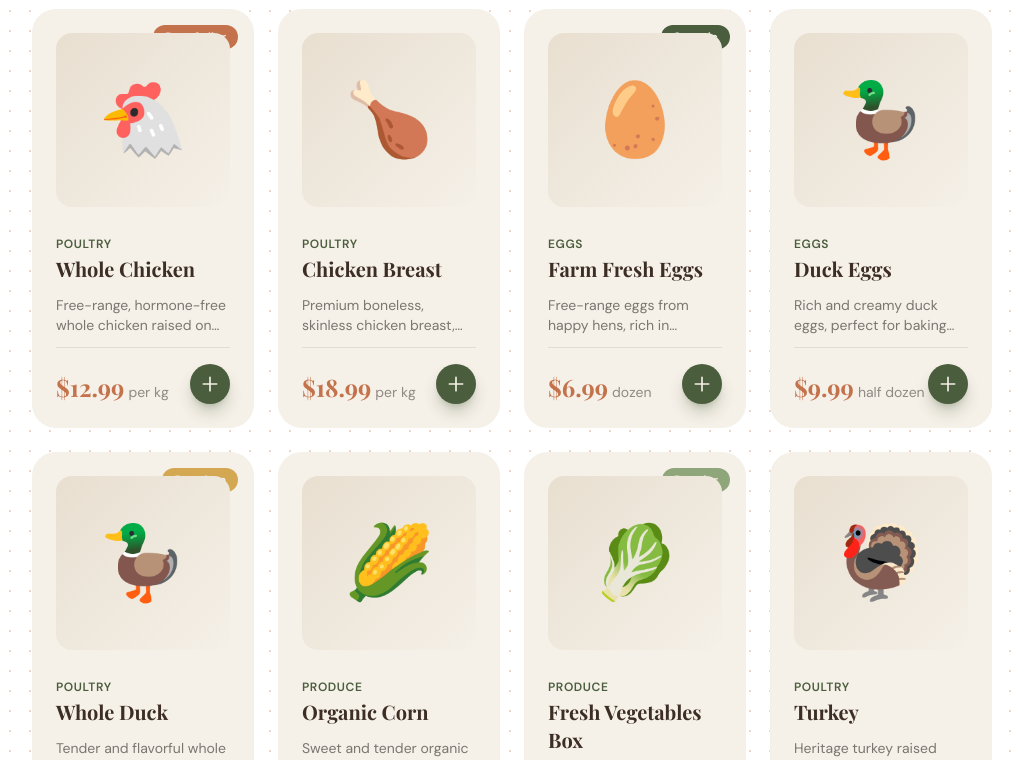
Test: Products › shows added feedback when add to cart is clicked
The image size is (1024, 760).
(page scrolled)
Expected: the heading "Whole Chicken" is shown, [56,255,195,282]
Click the button named "add whole chicken to cart": (210, 384) [190,364,230,404]
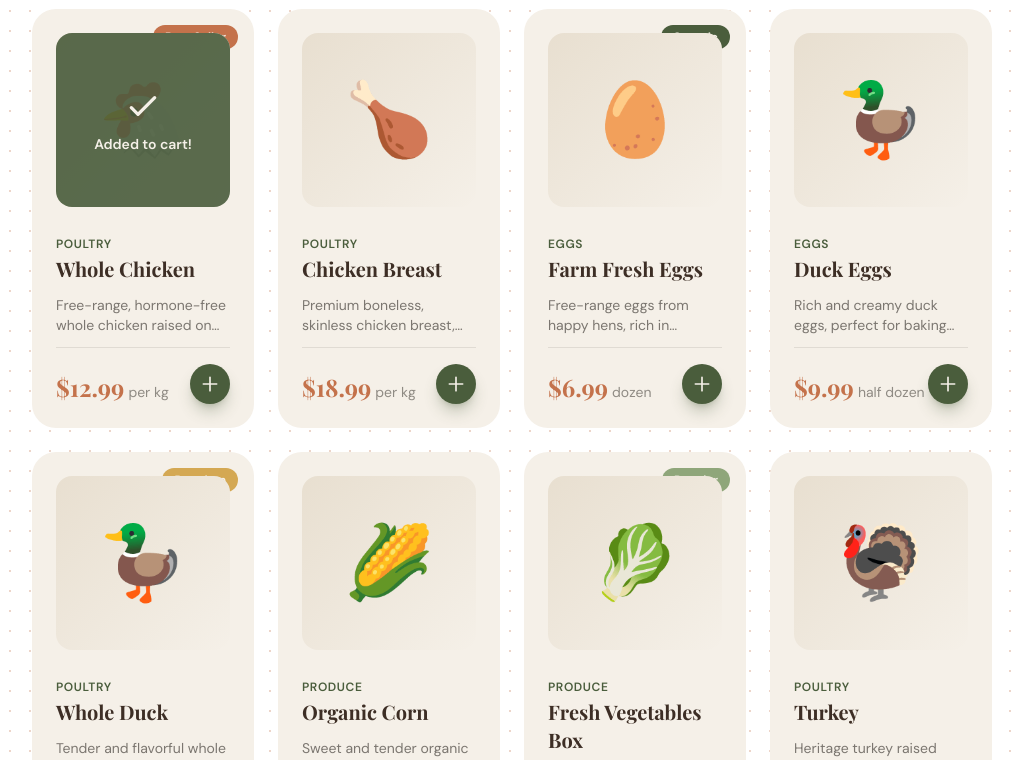
Expected: the text "Added to cart!" is shown, [94,134,192,154]
